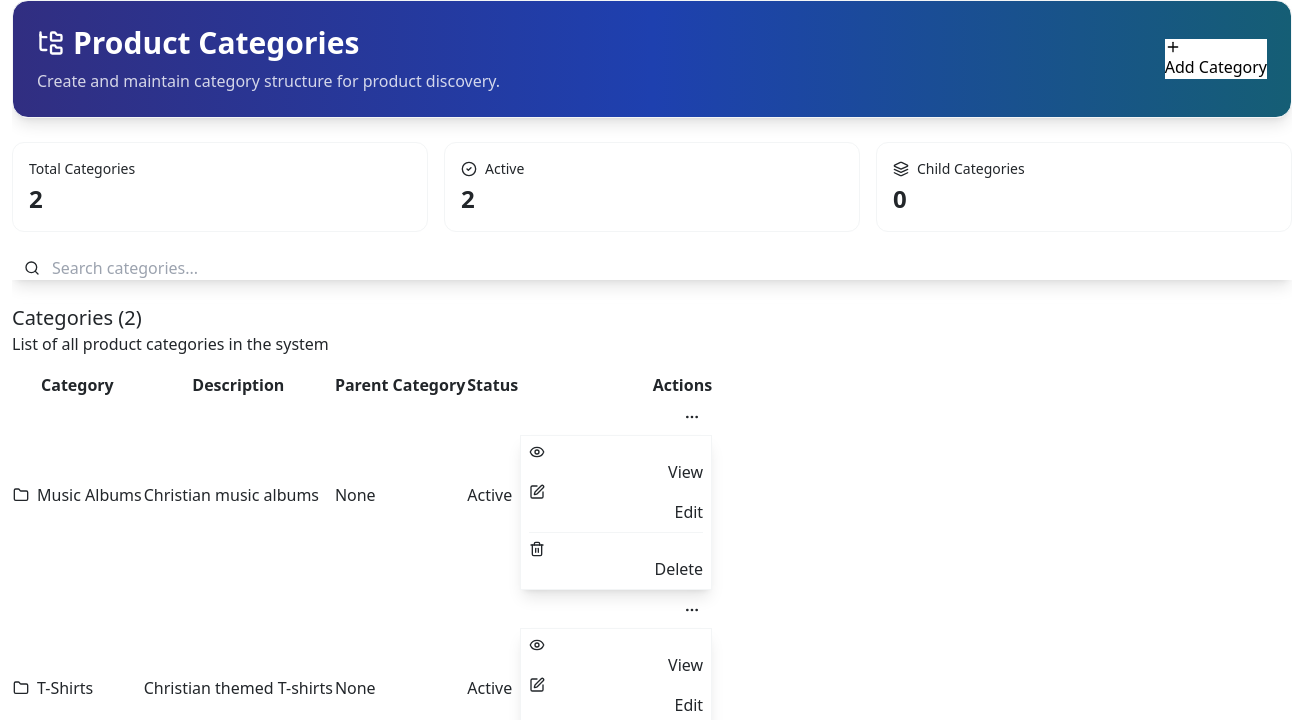
ProductCategoriesList Integration Tests › filters categories based on search input
Check: the text "Music Albums" is shown, box [13,482,142,506]
Check: the text "T-Shirts" is shown, box [13,676,93,698]
// Type in search input
Type "Music" into the field with placeholder "Search categories..." at coordinates (652, 268), box [12,256,1292,280]
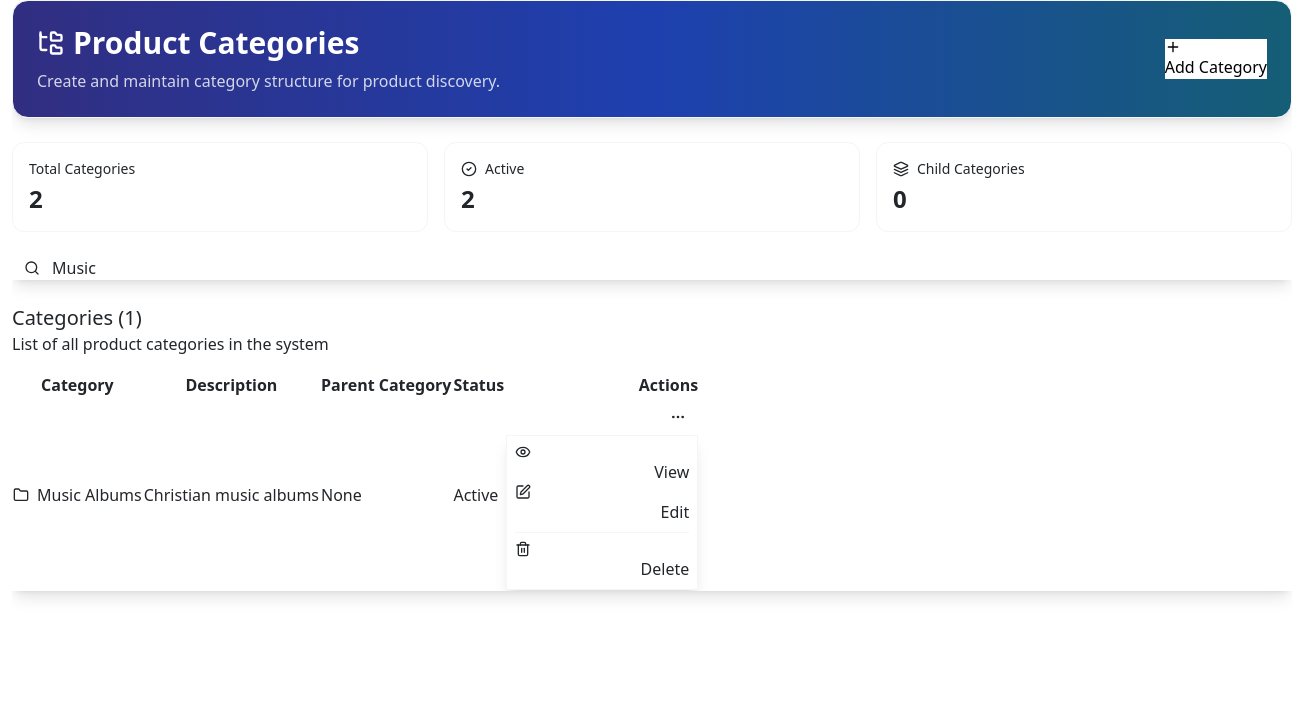
Check: the text "Music Albums" is shown, box [13,482,142,506]
Check: the text "T-Shirts" is gone
// Clear search
Clear the field with placeholder "Search categories..." at coordinates (652, 268), box [12,256,1292,280]
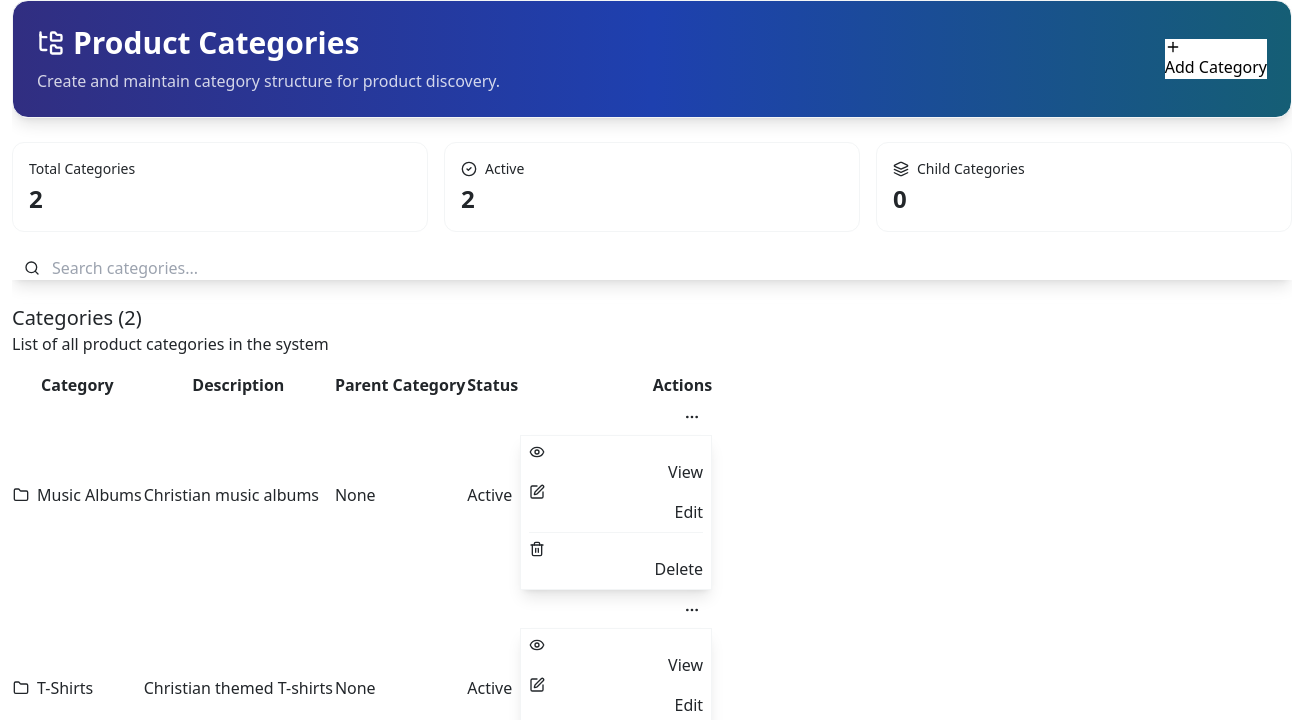
Check: the text "Music Albums" is shown, box [13,482,142,506]
Check: the text "T-Shirts" is shown, box [13,676,93,698]
